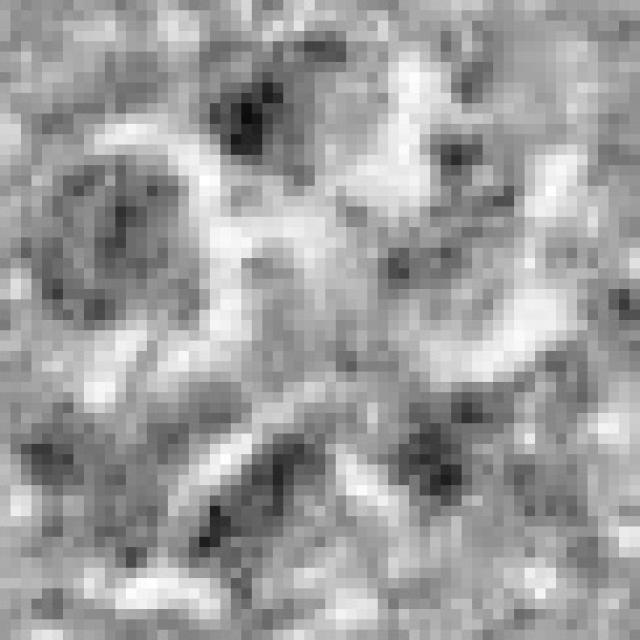inner: (208, 246, 429, 450)
lobe: (372, 329, 609, 569), (178, 22, 408, 224), (13, 383, 256, 571), (372, 115, 540, 341), (27, 158, 211, 333), (169, 431, 343, 597)
outer: (0, 0, 640, 640)
